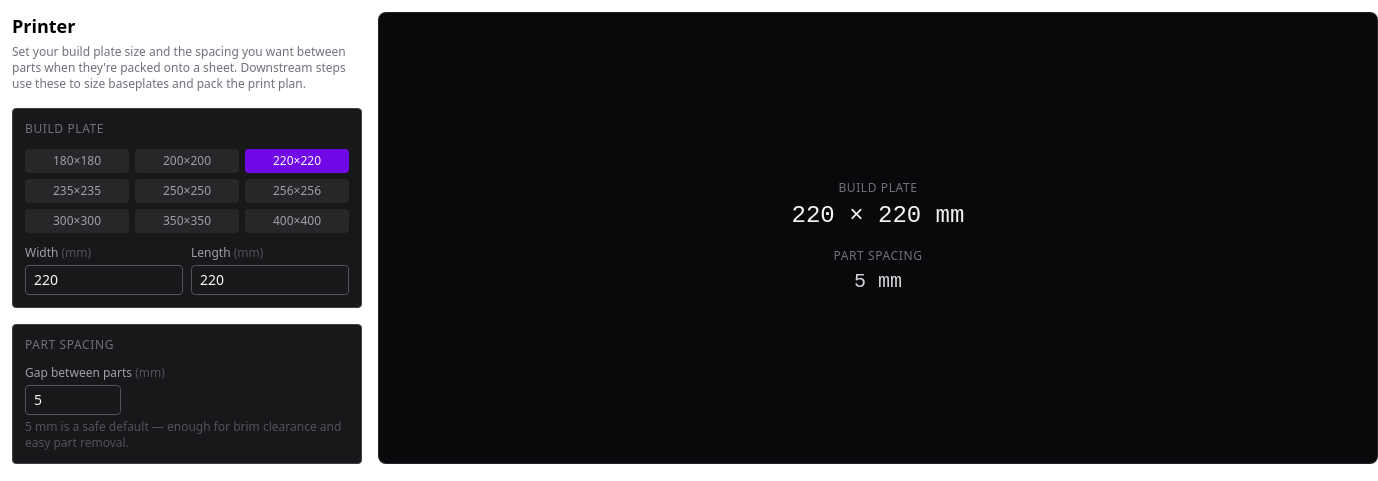
PrinterStep › updates the summary when a preset is clicked
The width and height of the screenshot is (1378, 481).
Click the button "256×256".
click(297, 191)  # box [245,179,349,203]
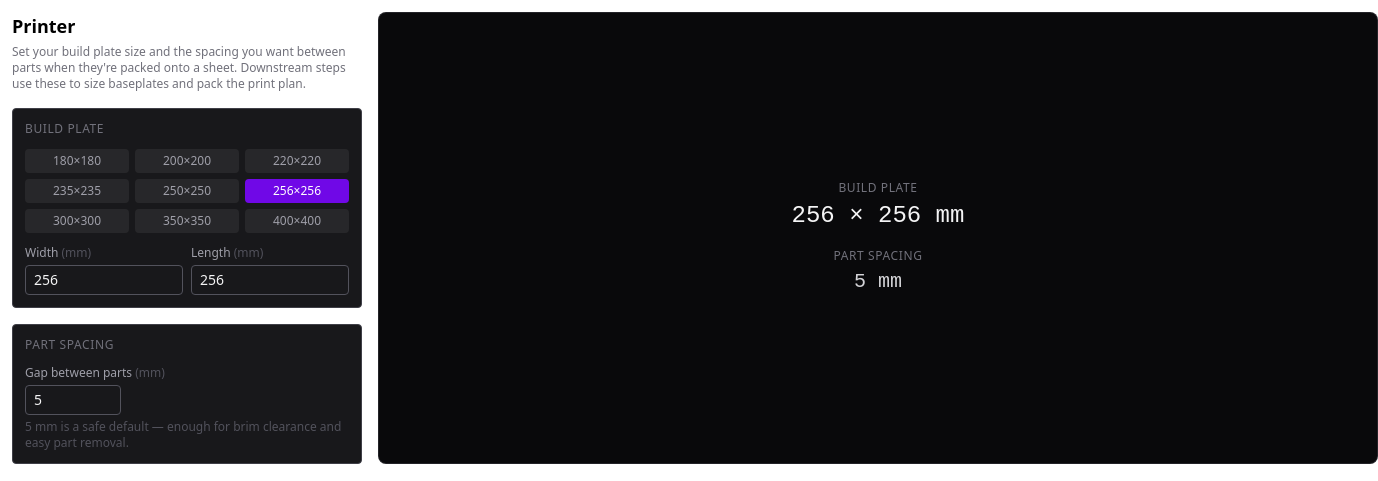
Now the text with test id "printer-summary-size" reads "256 × 256 mm", box [792,200,964,232]
